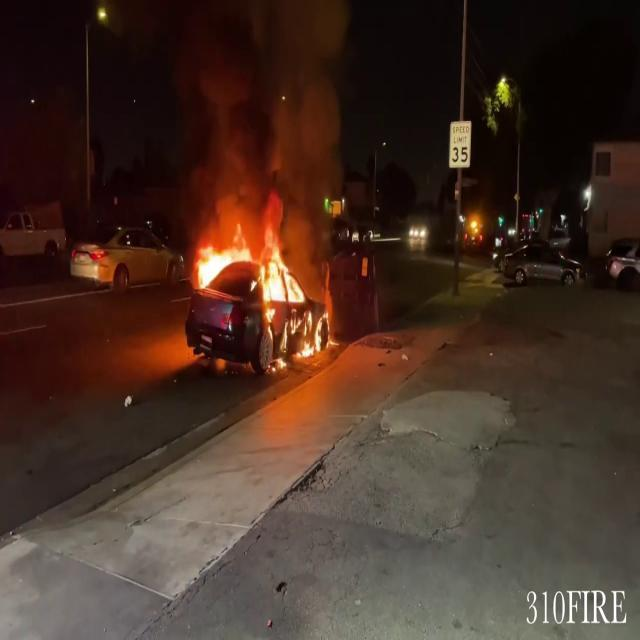Fire: (190, 221, 328, 362)
Smoke: (166, 0, 359, 228)
